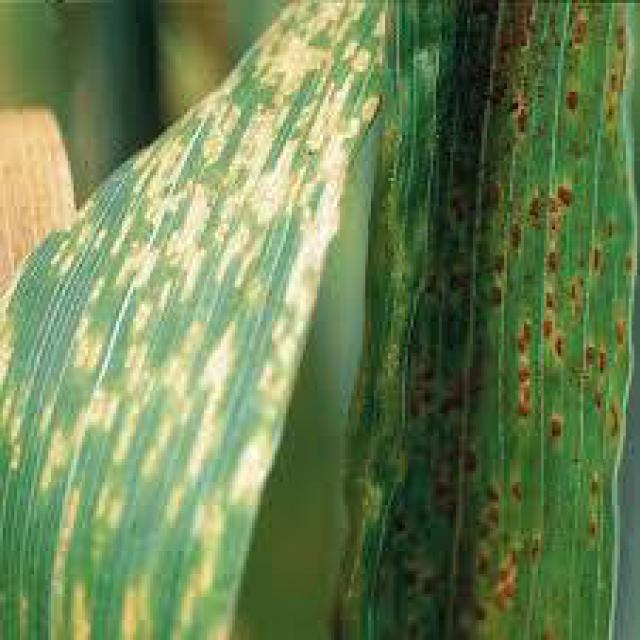wheat-powdery-mildew: (0, 0, 388, 640)
